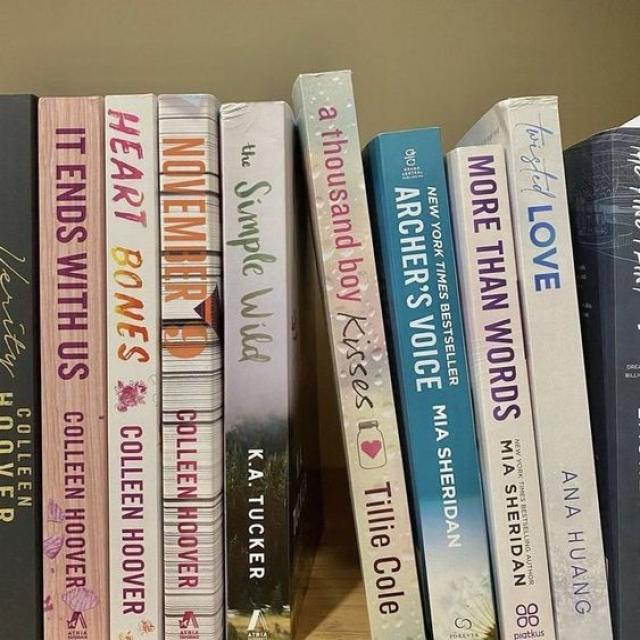book: (464, 95, 613, 639), (292, 69, 424, 639), (363, 127, 494, 639), (448, 145, 555, 639), (221, 101, 304, 639), (158, 94, 224, 639), (40, 100, 104, 640), (101, 94, 163, 639), (0, 94, 41, 639)
